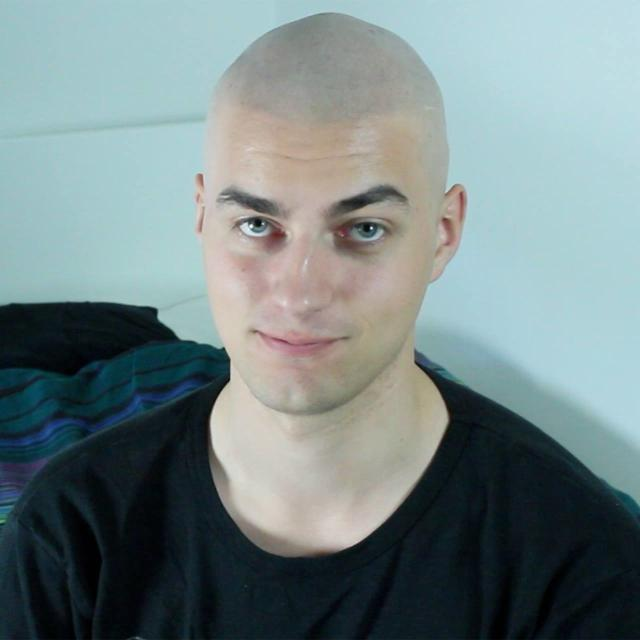no_helmet: (184, 7, 486, 234)
